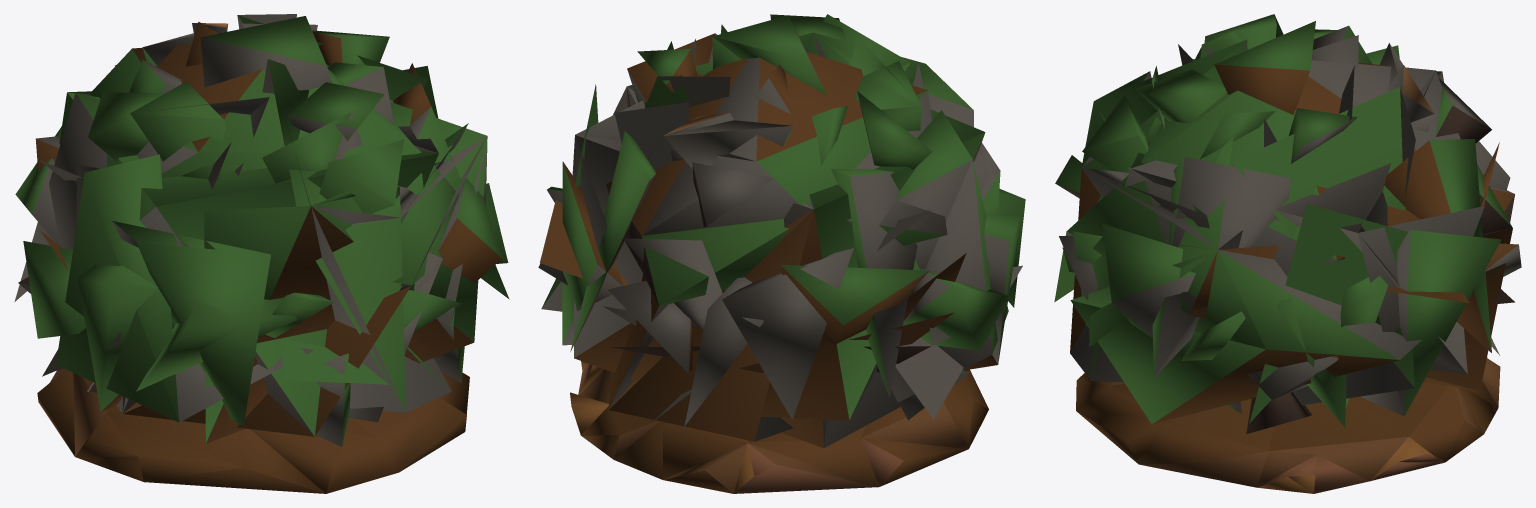
The model's file is prop.bush_a.glb.
The picture shows the model from 3 angles, left to right: view 1: azimuth 30°, elevation 25°; view 2: azimuth 150°, elevation 25°; view 3: azimuth 270°, elevation 25°; orthographic projection. The views are drawn at different scales.
Visible parts, largest first — view 1: asset; view 2: asset; view 3: asset.
Part boxes in pixels (left/top/right/bottom): asset: left=14, top=14, right=509, bottom=493; asset: left=538, top=14, right=1025, bottom=493; asset: left=1054, top=14, right=1521, bottom=493.
Size of the model in its own units: 0.9519 by 0.8 by 0.9342.
